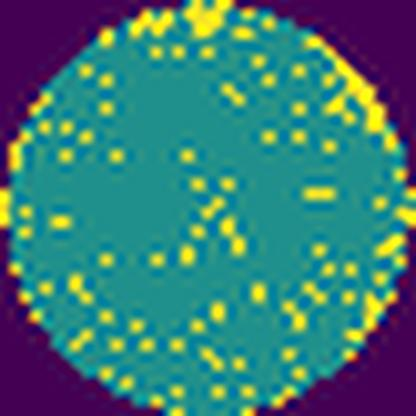Edge-Loc: (302, 22, 388, 142), (180, 0, 237, 44)
